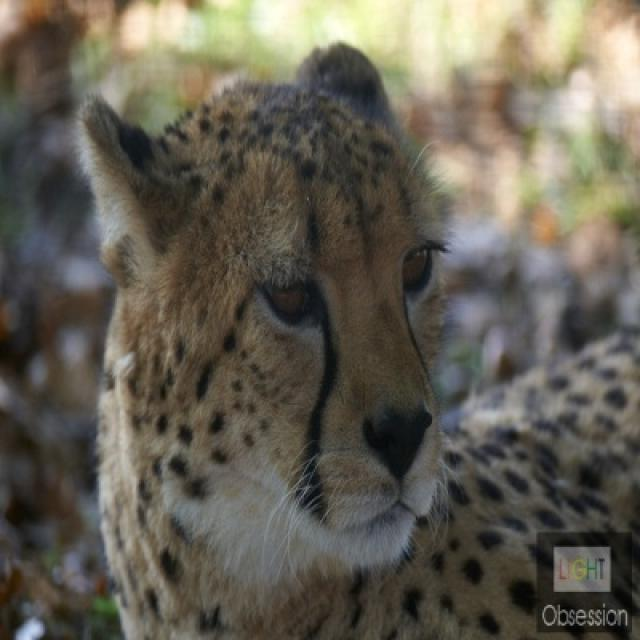Cheetah: (77, 46, 638, 638)
